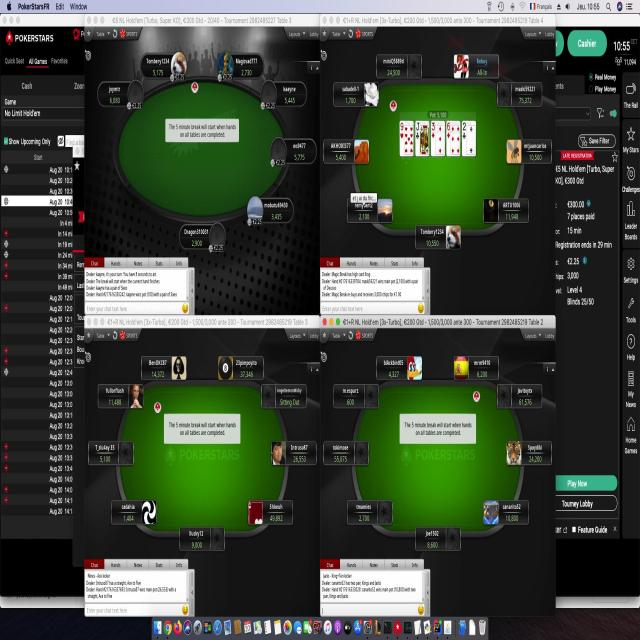2C: (462, 120, 466, 139)
3D: (431, 119, 435, 139)
6D: (445, 119, 452, 139)
9H: (398, 120, 404, 140)
JC: (415, 119, 420, 139)
